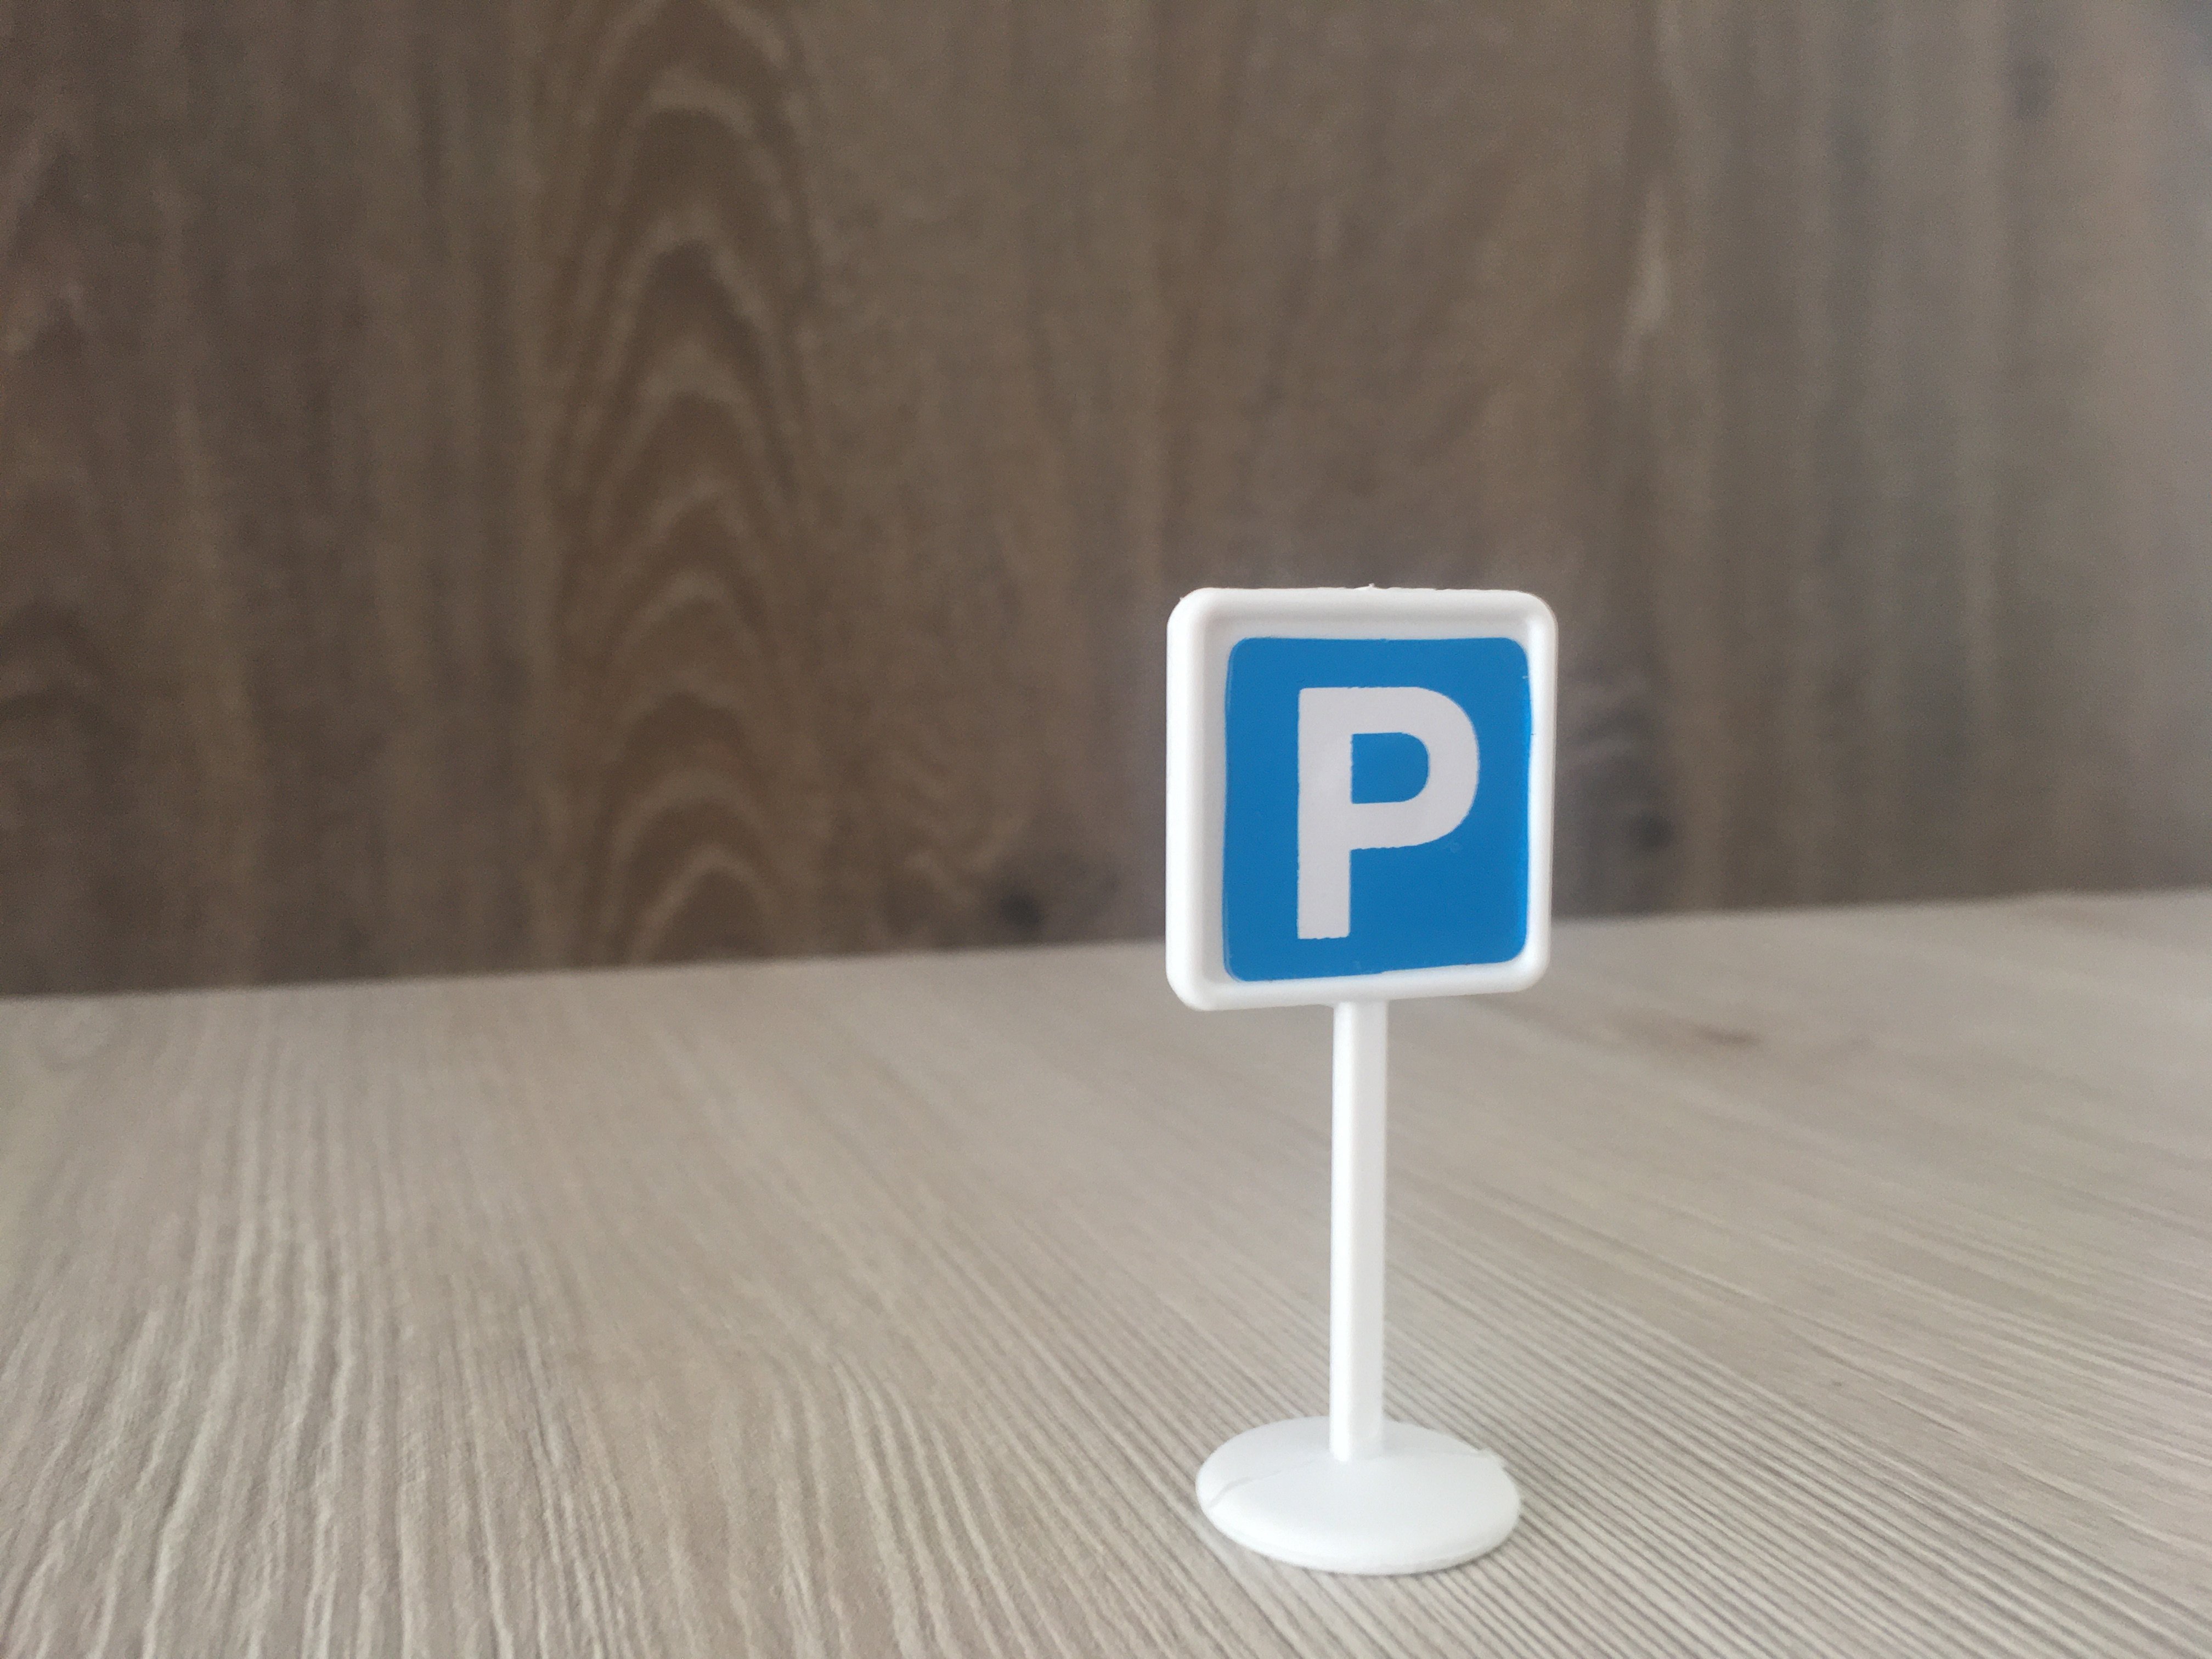parking: (1167, 589, 1548, 1011)
